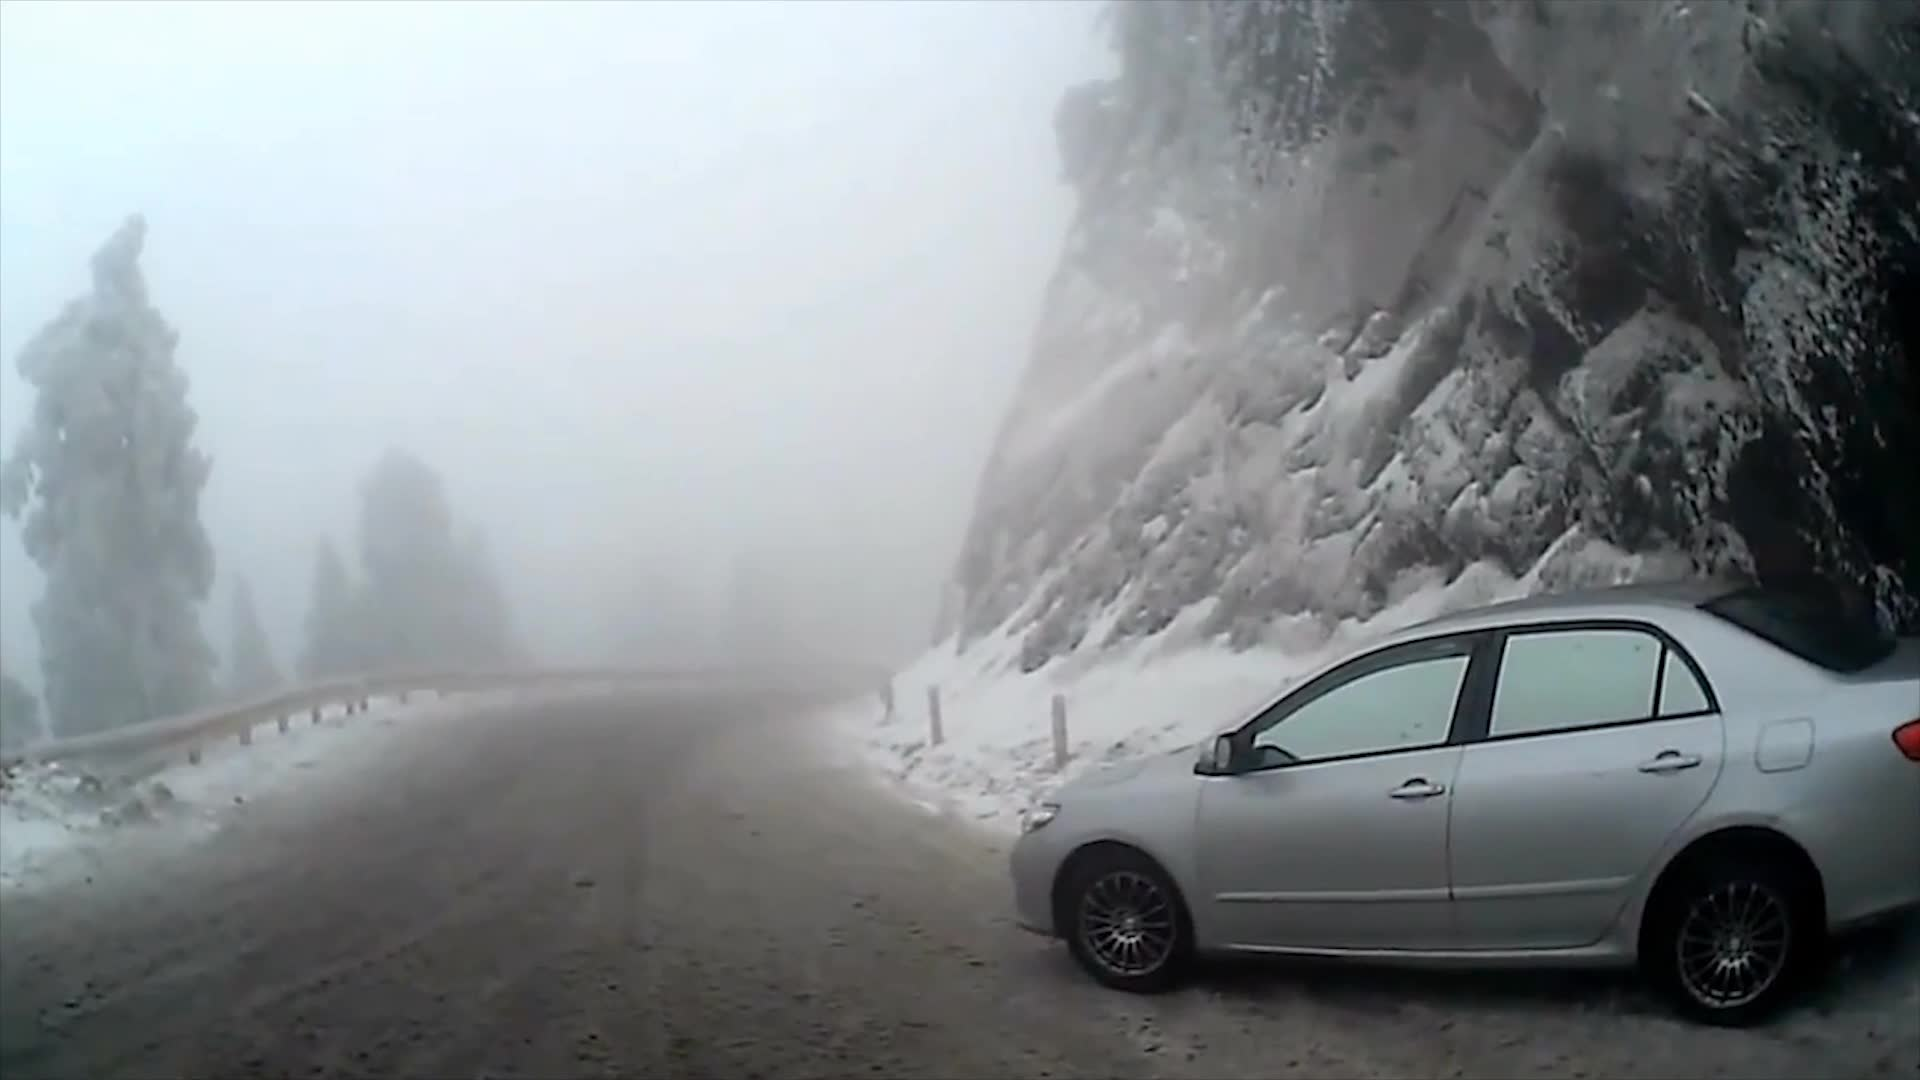vehicle: (1010, 582, 1920, 1036)
